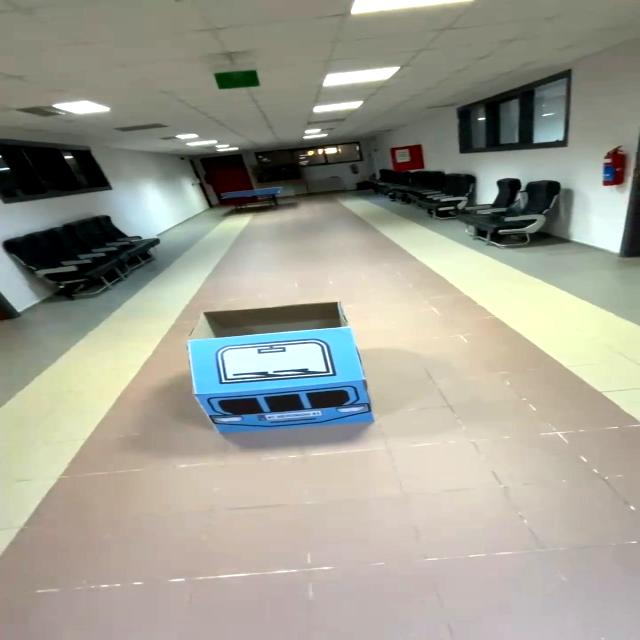blue_car: (157, 299, 445, 443)
